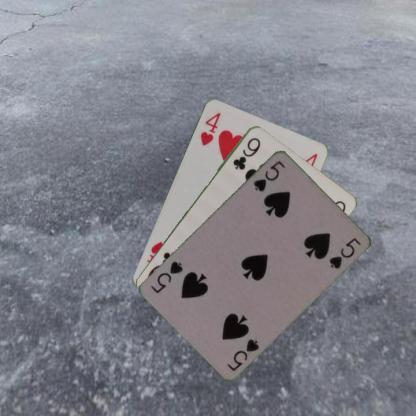4h: (197, 109, 222, 147)
5s: (224, 336, 261, 372), (250, 158, 286, 193)
9c: (230, 135, 262, 171)
